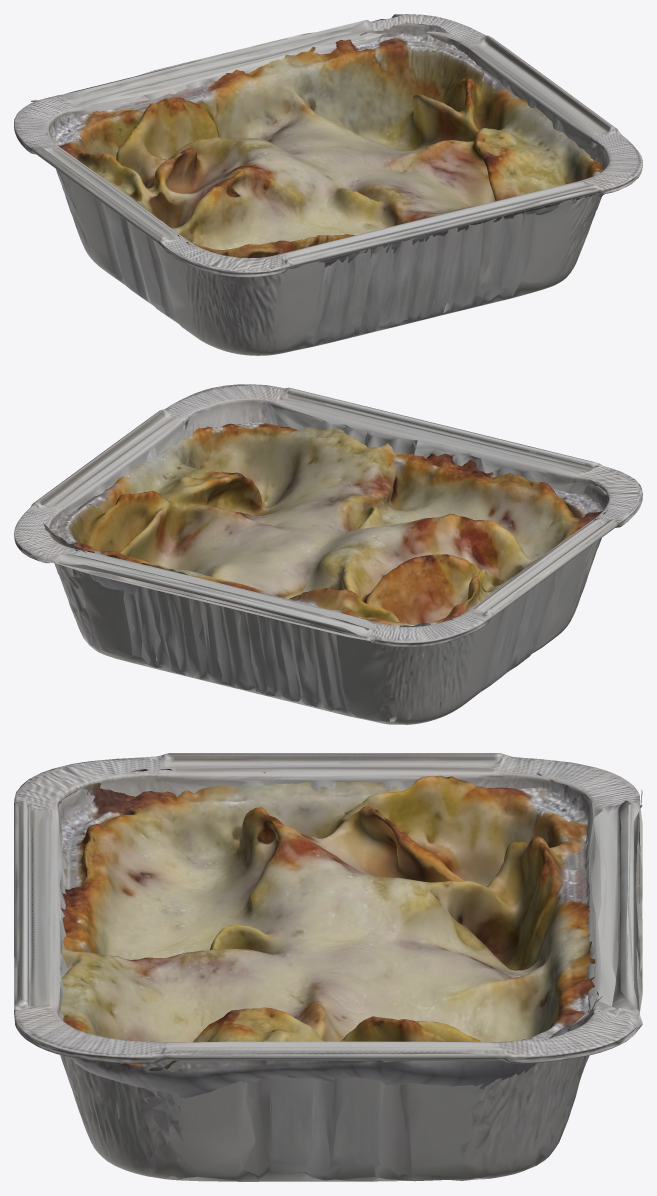
File: chips.glb
3 renders of one model, top to bottom at view 1: azimuth 30°, elevation 25°; view 2: azimuth 150°, elevation 25°; view 3: azimuth 270°, elevation 25°, orthographic. The views are drawn at different scales.
Parts seen in each view (by area): view 1: 3DModel, node_0; view 2: node_0, 3DModel; view 3: 3DModel, node_0.
Boxes of the visible parts, x1=… form: 3DModel: x1=46, y1=22, x2=604, y2=268; node_0: x1=14, y1=14, x2=642, y2=355; node_0: x1=14, y1=384, x2=642, y2=724; 3DModel: x1=43, y1=422, x2=608, y2=626; 3DModel: x1=58, y1=769, x2=602, y2=1098; node_0: x1=14, y1=753, x2=642, y2=1181.
Bounding box in the file's own units: 0.1562 × 0.0428 × 0.138.
2 materials, 2 textured.
